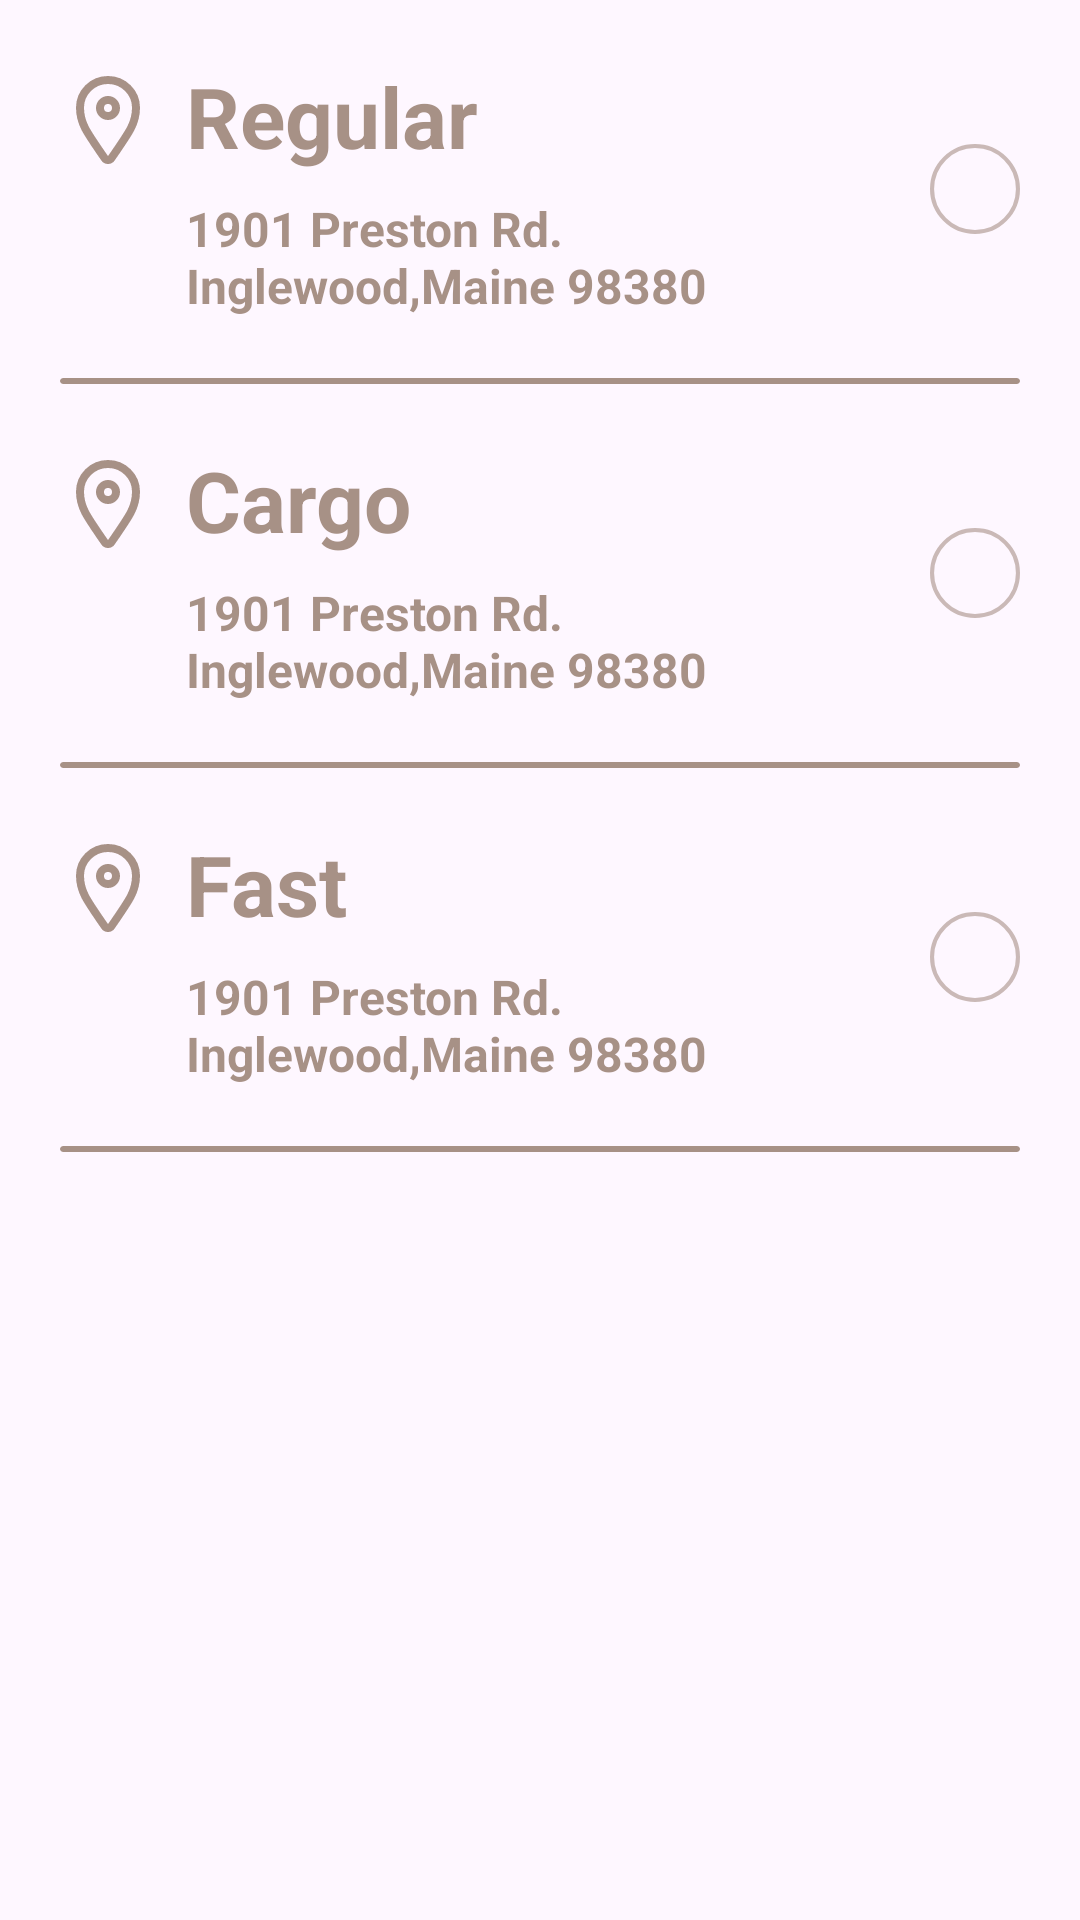

Point at icon controls on the screen. Image size 1080px x 1920px, points as (x=x, y=y).
location: (x=108, y=120), (x=108, y=504), (x=108, y=888)
radio unselect: (x=975, y=189), (x=975, y=573), (x=975, y=957)
